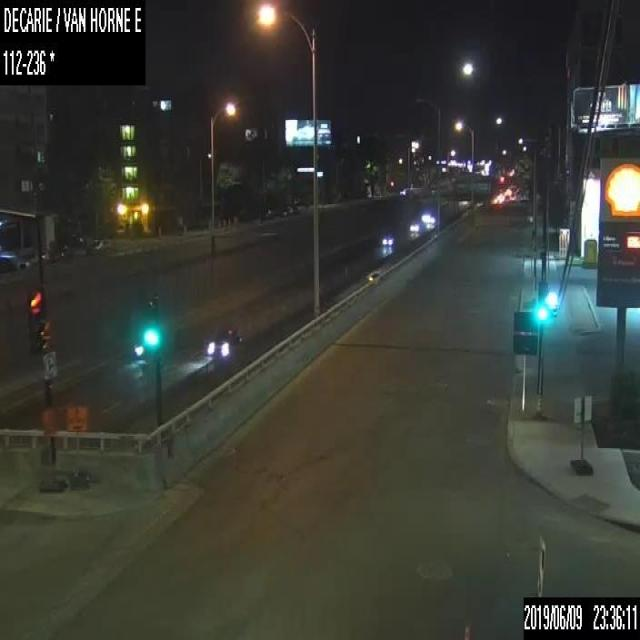construction: (38, 401, 64, 491), (63, 401, 87, 490), (570, 392, 593, 471)
vehicle: (205, 325, 240, 355), (380, 232, 394, 245), (409, 221, 419, 231)
